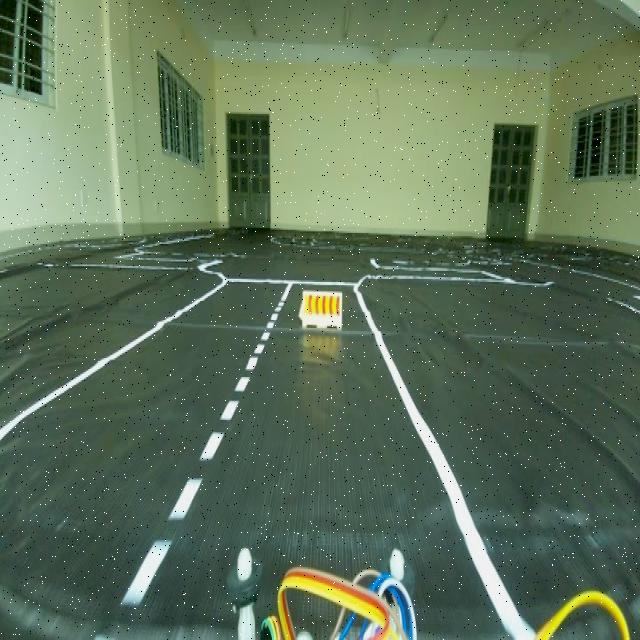roadblock: (298, 284, 346, 342)
